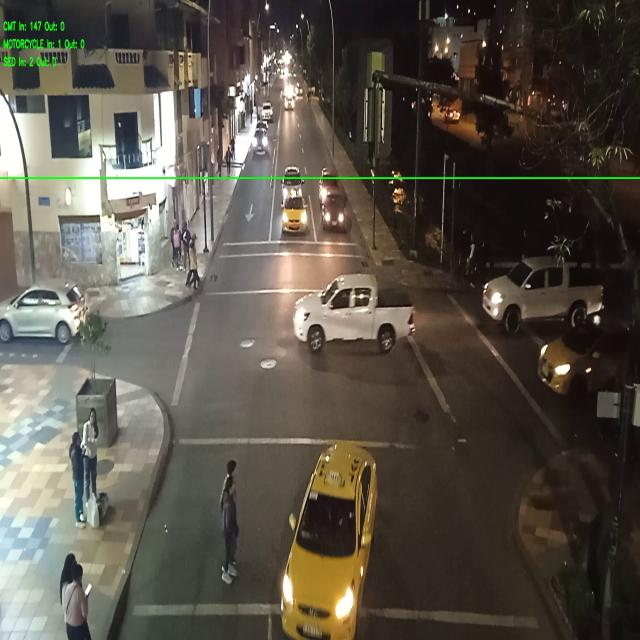CMT: (296, 276, 414, 344), (482, 255, 603, 318)
SED: (281, 442, 378, 634), (539, 318, 623, 396), (0, 276, 87, 338), (283, 198, 304, 236), (324, 197, 344, 232)
SUV: (253, 132, 267, 152), (262, 104, 272, 122)
